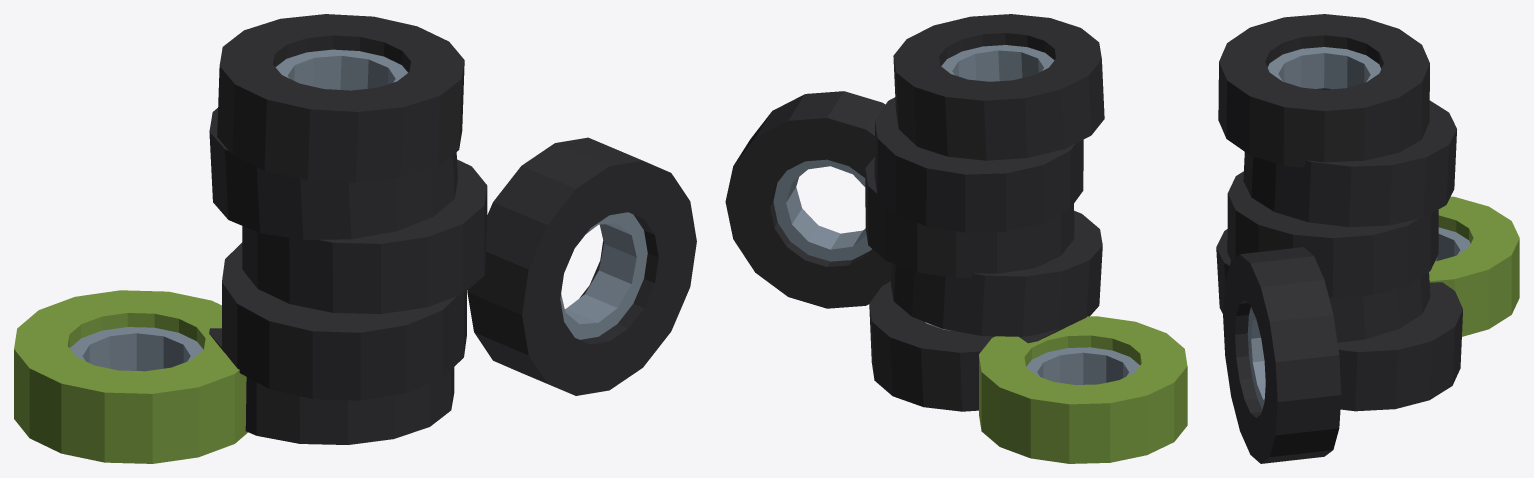
Rendered from prop_tire_stack.fbx.
3 views of the same model, side by side, from view 1: azimuth 30°, elevation 25°; view 2: azimuth 150°, elevation 25°; view 3: azimuth 270°, elevation 25° (orthographic). The views are drawn at different scales.
Visible parts, largest first — view 1: prop_tire_stack; view 2: prop_tire_stack; view 3: prop_tire_stack.
Part boxes in pixels (x1,y1,x2,y2): prop_tire_stack: (14,14,696,463); prop_tire_stack: (725,14,1187,463); prop_tire_stack: (1216,14,1519,463).
Size of the model in its own units: 8.77 by 5.14 by 4.6.
